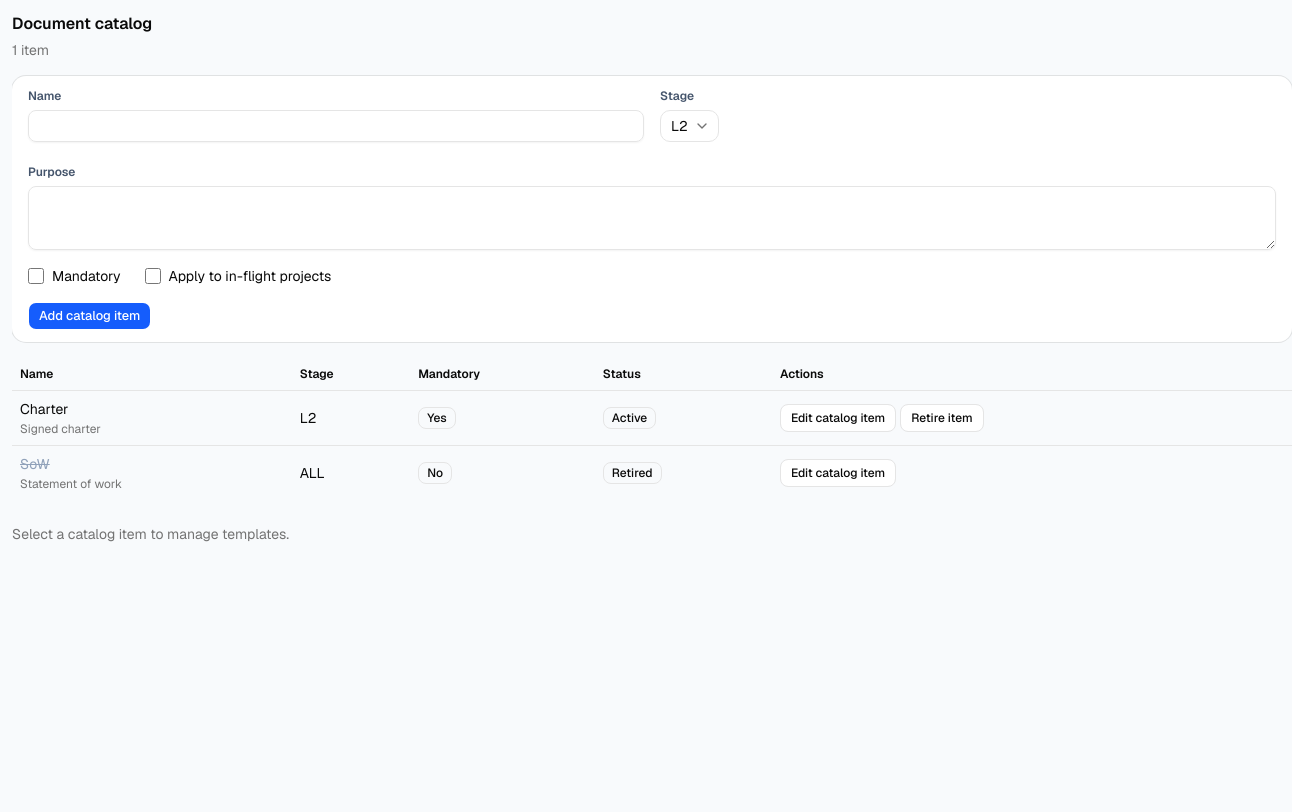
DocumentCatalogPage › create catalog item › POSTs name and apply_to_in_flight then toasts success and reloads list
Expected: the element with test id "catalog-create-form" is shown, left=12, top=76, right=1291, bottom=342
Type "Risk Register" into the field named "Name" at (336, 126), box left=28, top=110, right=644, bottom=142
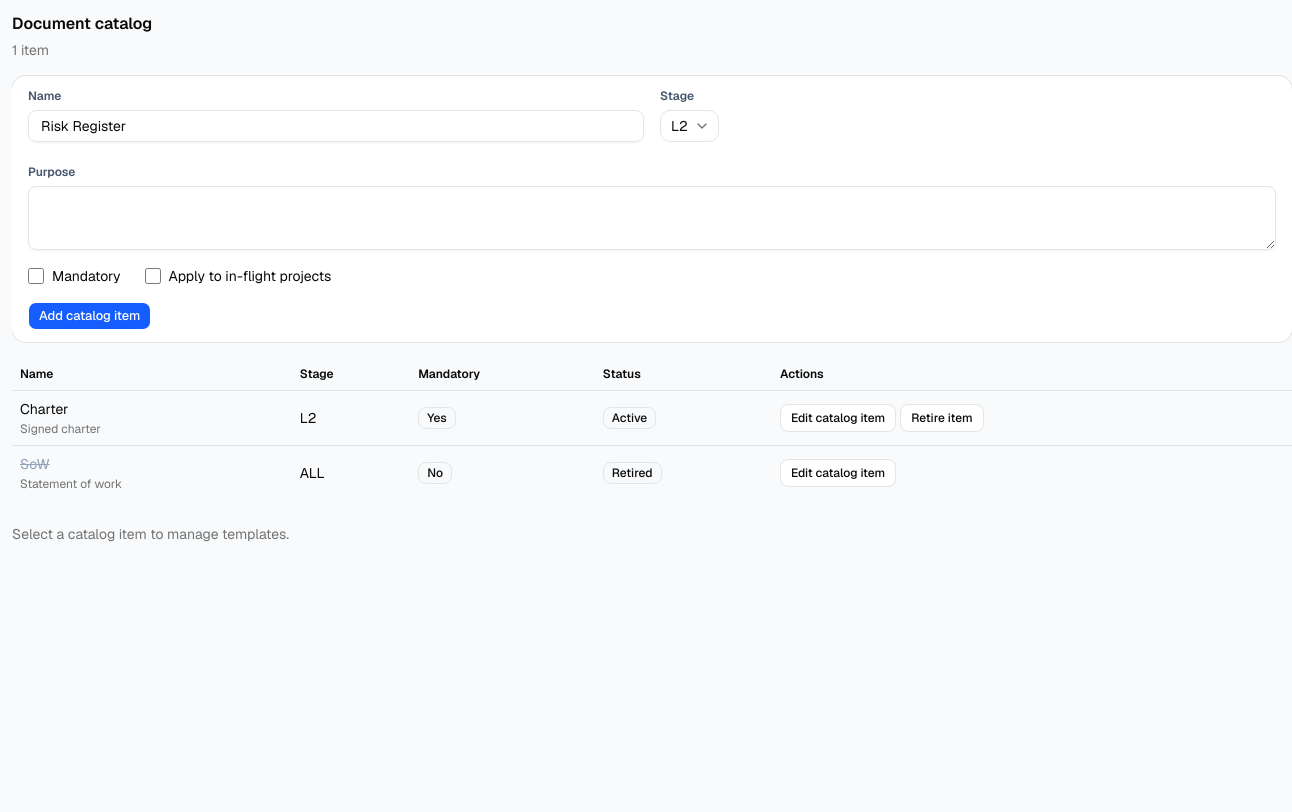
Click the button "Add catalog item" at (90, 316), box left=28, top=302, right=151, bottom=330
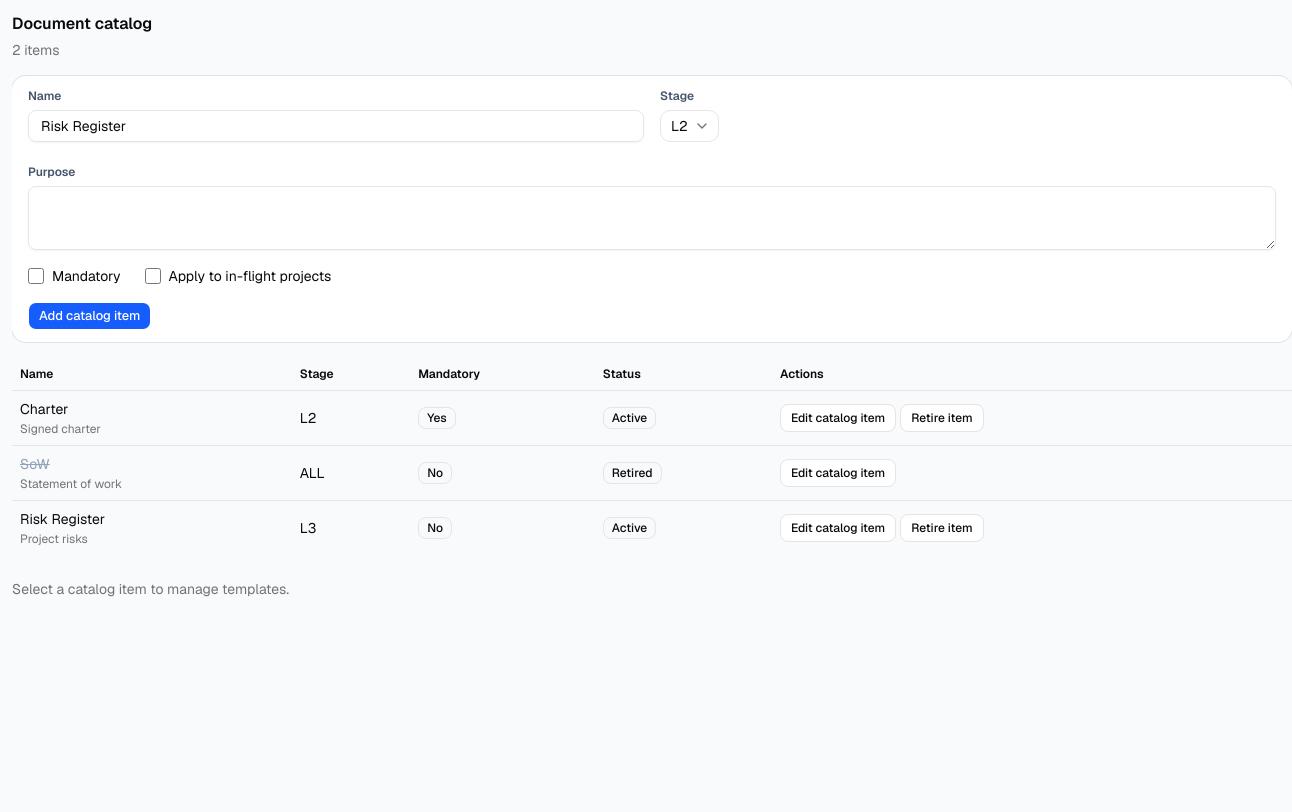
Expected: the text "Risk Register" is shown, left=20, top=510, right=105, bottom=528
